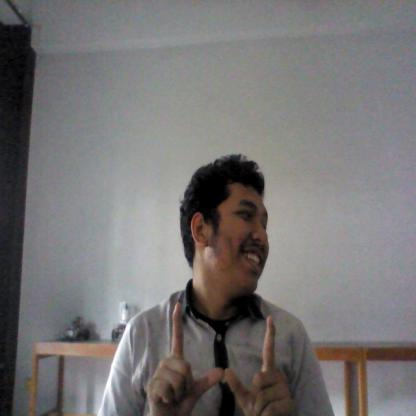W: (146, 299, 296, 416)
